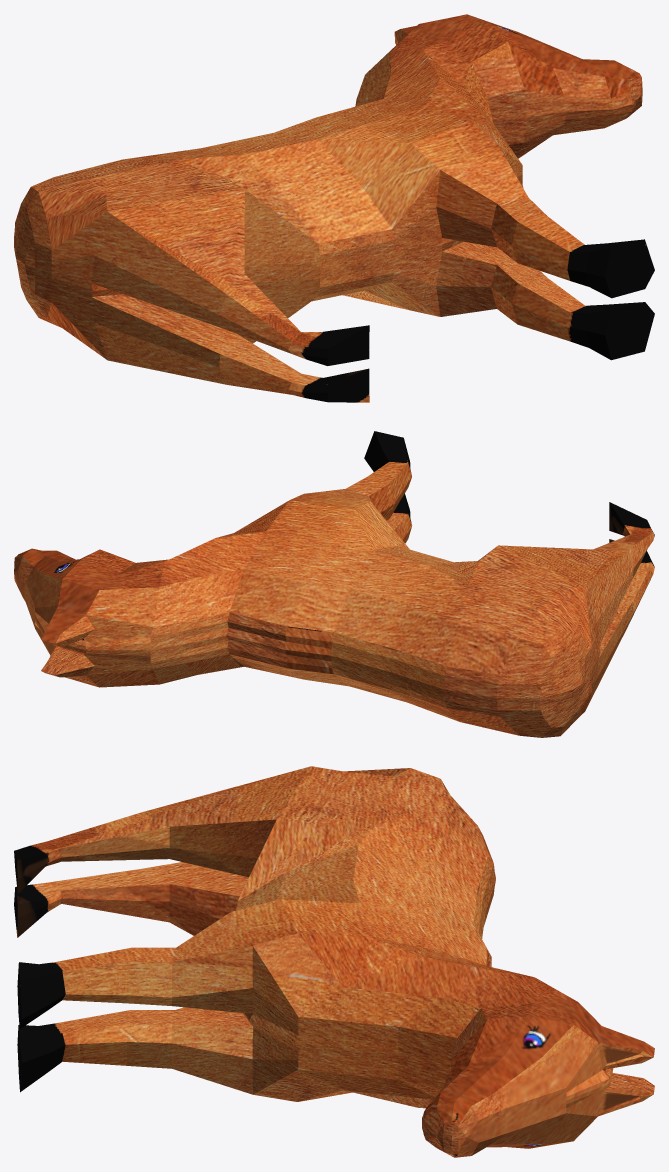
Rendered from pony plane v1_12_mirrored_FMODEL_teksturki po kolorowaniu FIN2.fbx.
3 renders of one model, top to bottom at view 1: azimuth 30°, elevation 25°; view 2: azimuth 150°, elevation 25°; view 3: azimuth 270°, elevation 25°, orthographic. The views are drawn at different scales.
Parts seen in each view (by area): view 1: Plane; view 2: Plane; view 3: Plane.
Boxes of the visible parts, left/top/right/bottom form: Plane: left=14, top=14, right=654, bottom=402; Plane: left=14, top=431, right=654, bottom=737; Plane: left=14, top=766, right=654, bottom=1157.
Bounding box in the file's own units: 266 × 65.99 × 227.
Materials: 1 (1 with a texture image).
